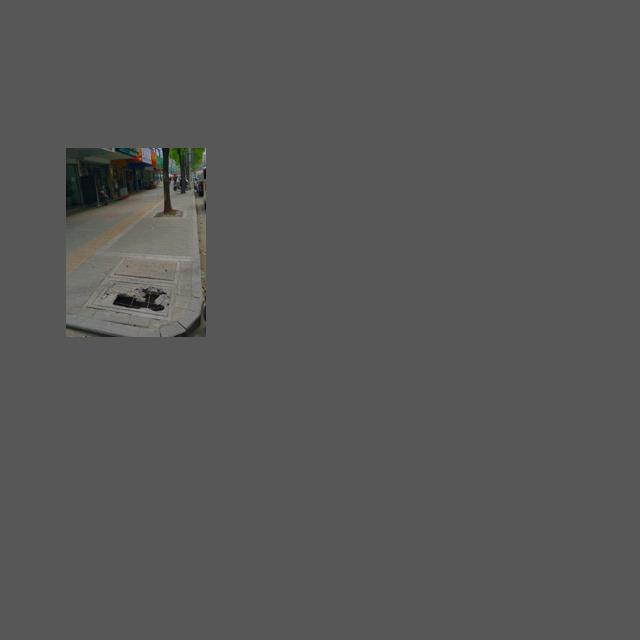broke: (86, 277, 175, 320)
good: (109, 256, 180, 283)
